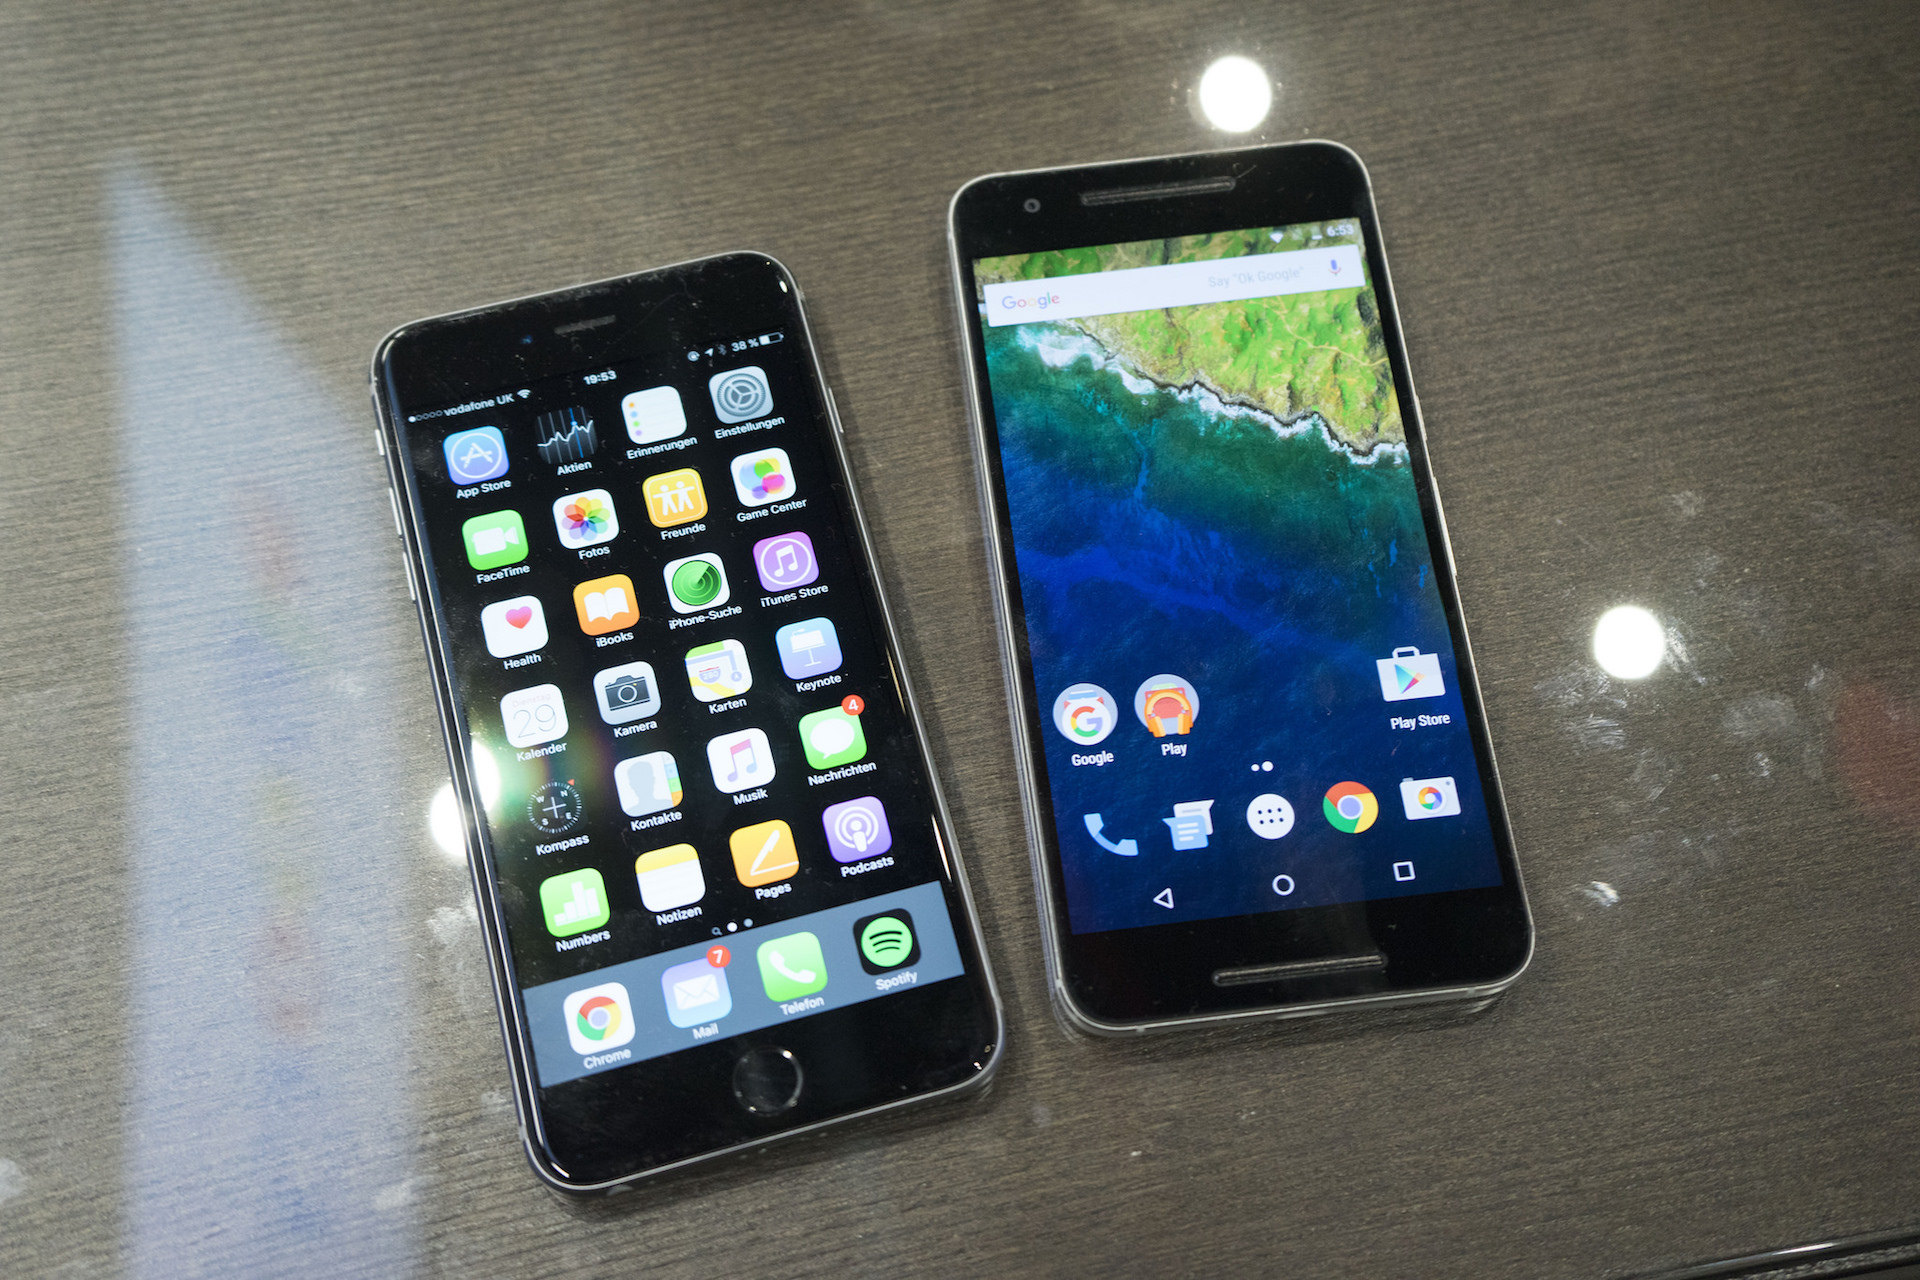smartphone: (367, 250, 1013, 1210), (941, 139, 1539, 1046)
